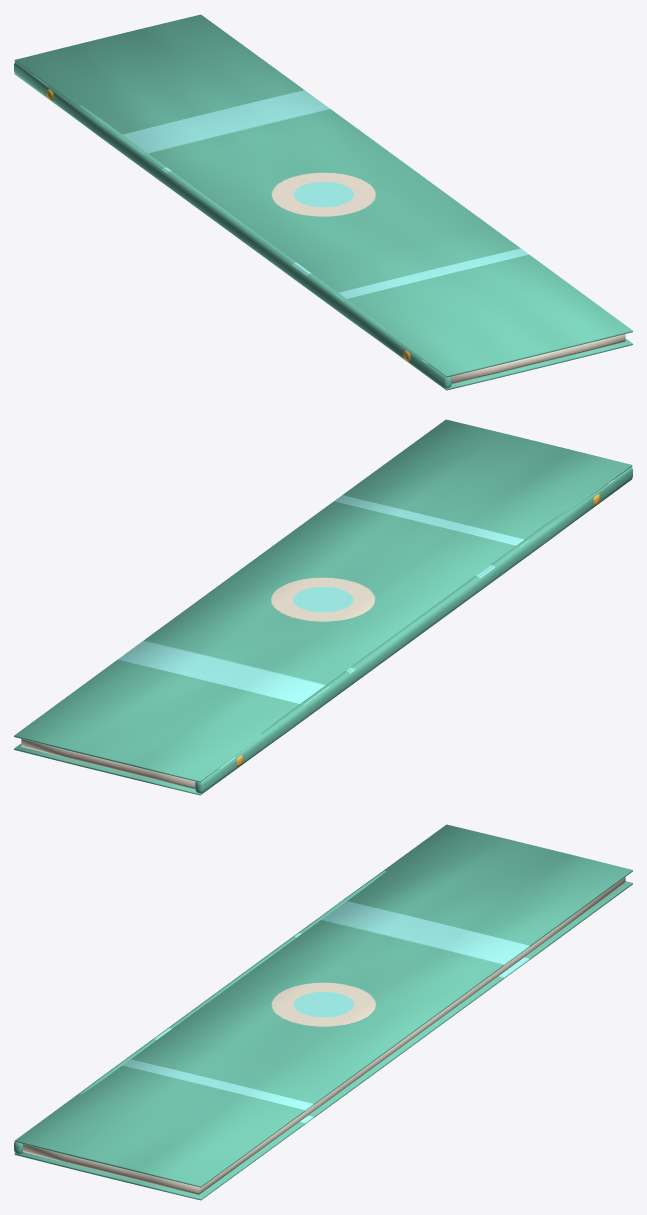
File: ramp_book_mint.glb
3 views of the same model, one above another, from view 1: azimuth 30°, elevation 25°; view 2: azimuth 150°, elevation 25°; view 3: azimuth 330°, elevation 25° (orthographic).
Parts seen in each view (by area): view 1: RampBook_薄荷; view 2: RampBook_薄荷; view 3: RampBook_薄荷.
Part boxes in pixels (x1,y1,x2,y2): RampBook_薄荷: (14,14,632,390); RampBook_薄荷: (14,419,632,795); RampBook_薄荷: (14,824,632,1200).
Size of what is drawn, in the model's own units: 0.2534 by 0.02 by 0.9999.
Materials: 3 (3 with a texture image).
